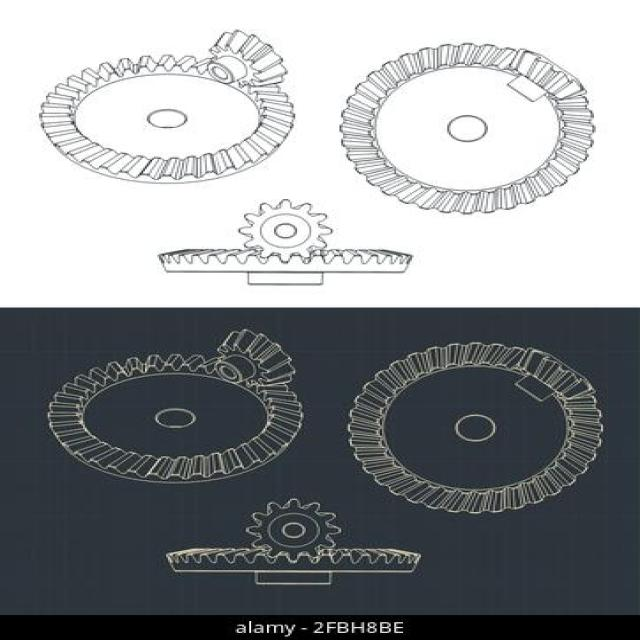Gear: (336, 40, 610, 218), (34, 52, 301, 186), (155, 246, 415, 290), (234, 193, 336, 261), (193, 29, 286, 90), (506, 48, 581, 108)
